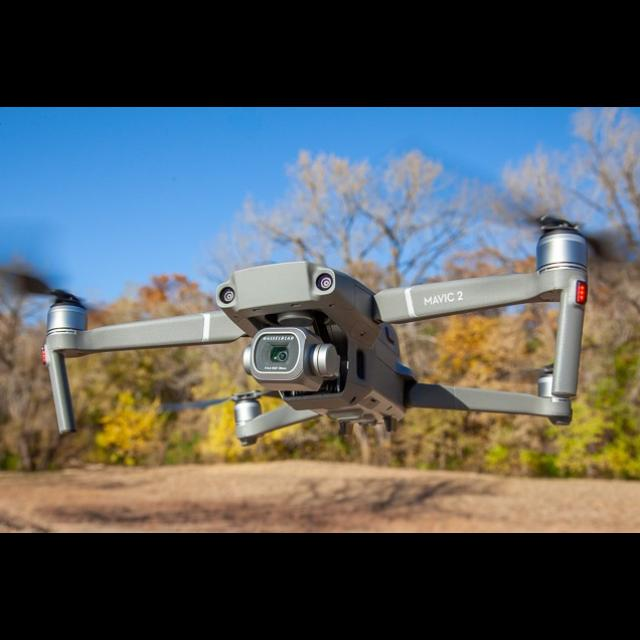Drone: (30, 216, 628, 440)
